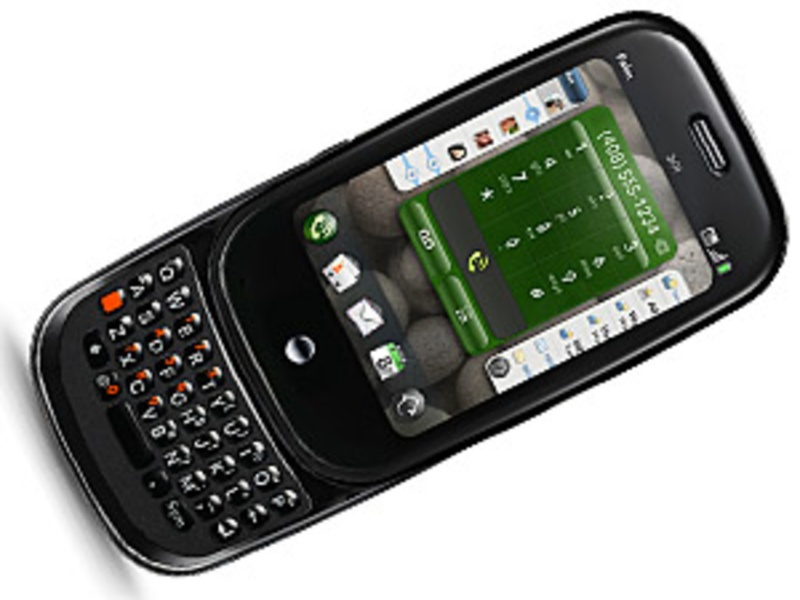cellphone: (52, 6, 796, 598)
